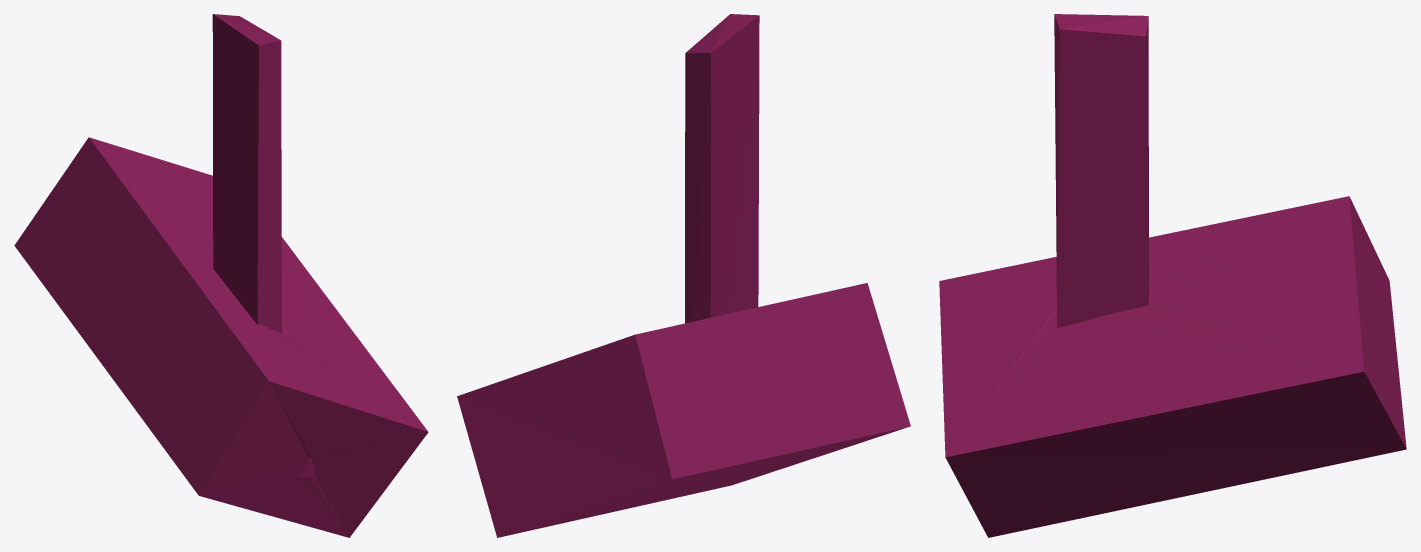
3 renders of one model, left to right at view 1: azimuth 30°, elevation 25°; view 2: azimuth 150°, elevation 25°; view 3: azimuth 270°, elevation 25°, orthographic. The views are drawn at different scales.
Parts seen in each view (by area): view 1: 632_Cube.2544; view 2: 632_Cube.2544; view 3: 632_Cube.2544.
Part boxes in pixels (bbox=[...]): 632_Cube.2544: bbox=[14, 14, 428, 537]; 632_Cube.2544: bbox=[457, 14, 910, 537]; 632_Cube.2544: bbox=[939, 14, 1406, 537].
Bounding box in the file's own units: 7.78 × 15.15 × 12.97.
